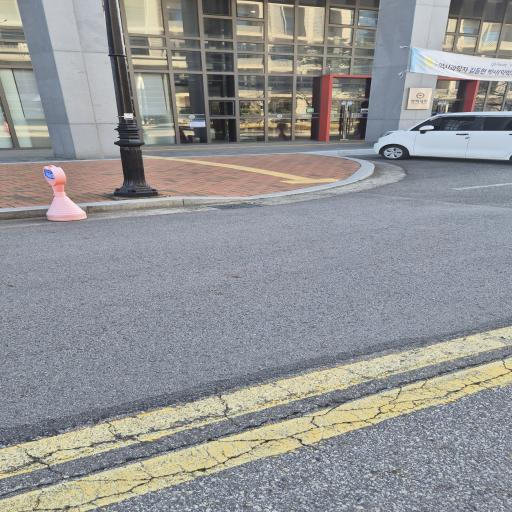drain: (206, 202, 263, 209)
